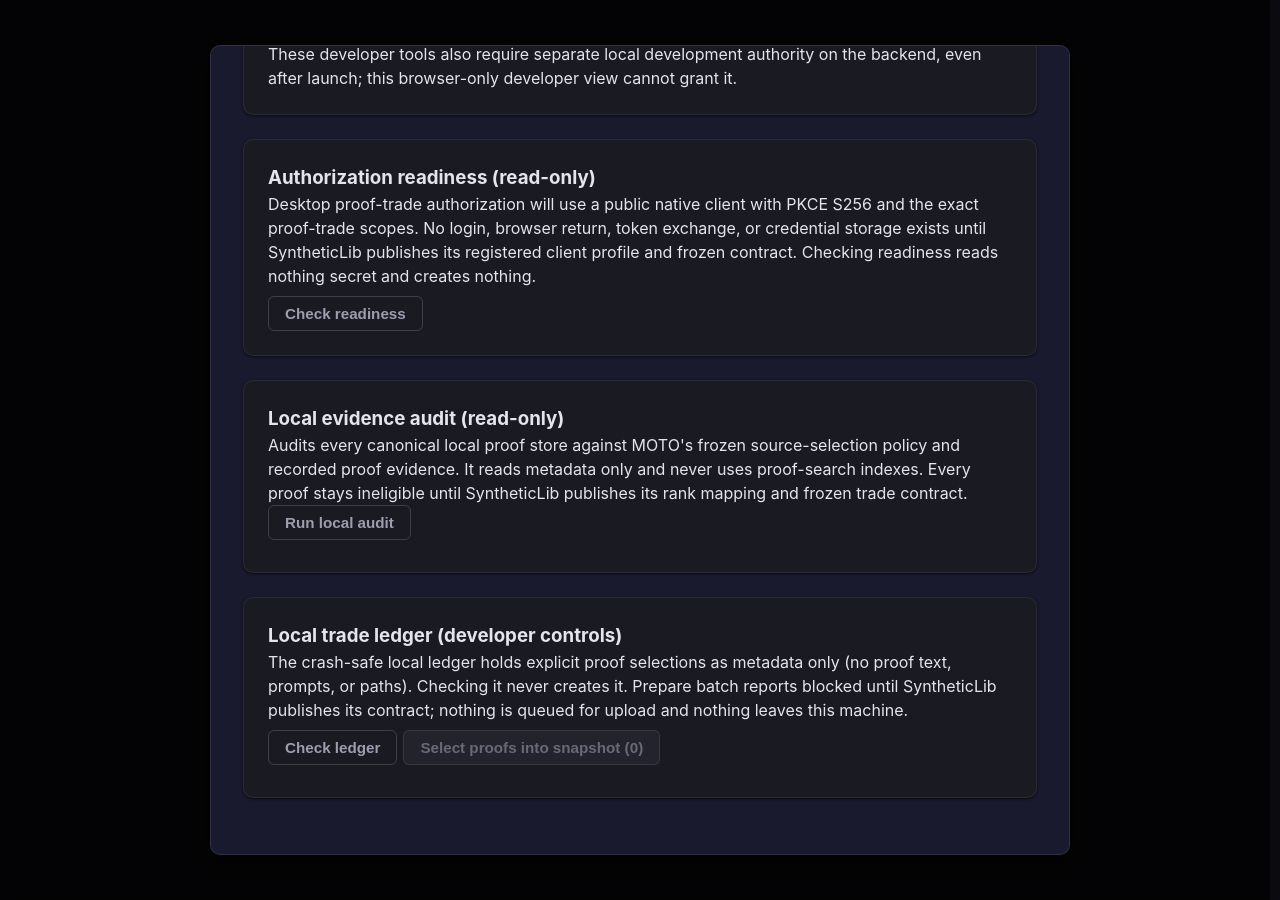
SyntheticLib4DeveloperWorkspace › checks the ledger only on request and shows counts without uploads
The width and height of the screenshot is (1280, 900).
(page scrolled)
Click the button "Check ledger" at (333,748), box [268,730,397,765]
(page scrolled)
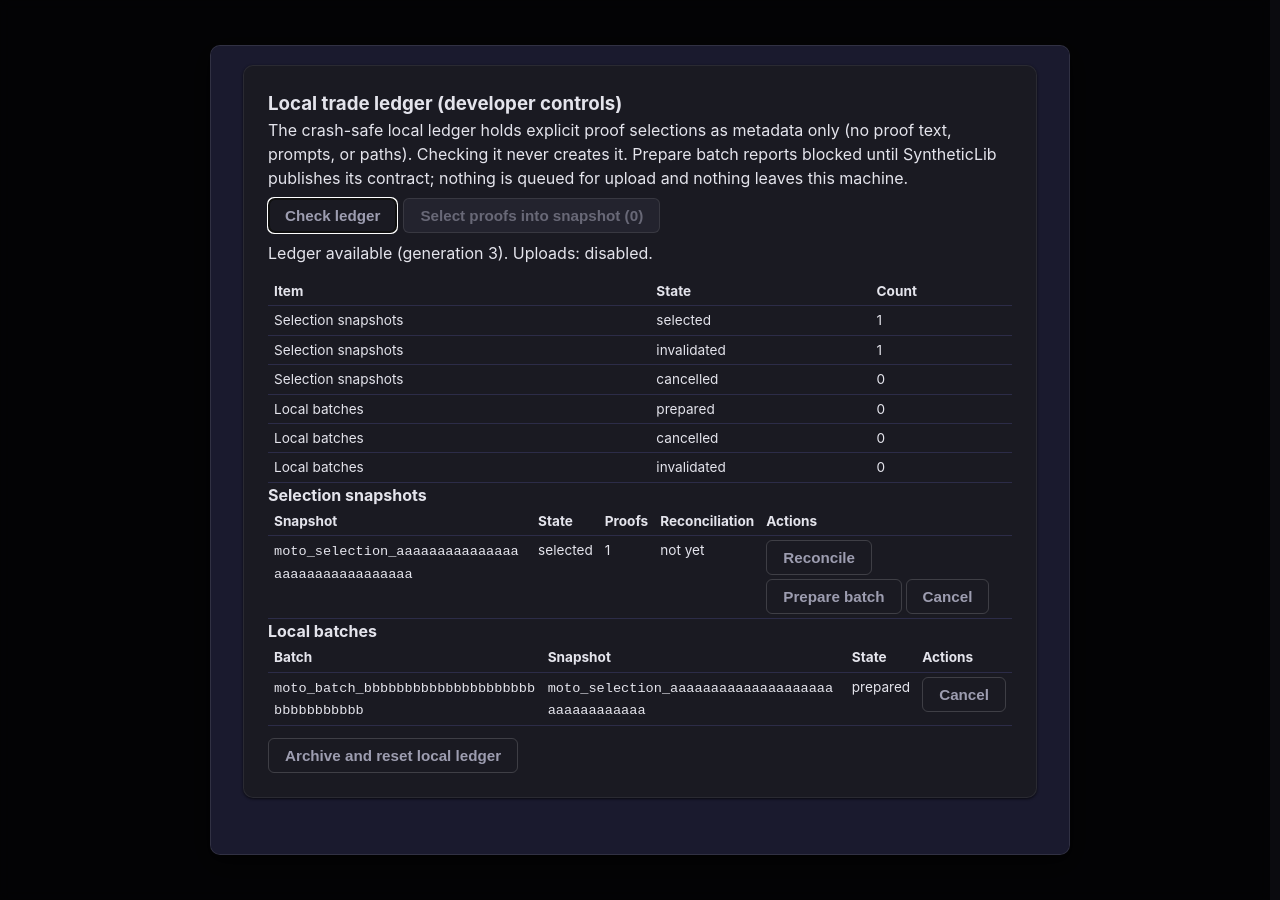
Result: the text "Ledger available (generation 3). Uploads: disabled." is shown at [268,243,653,263]
Result: the table named "trade ledger state counts" shows "invalidated" at [656,342,726,358]
Result: the table named "local batches" shows "prepared" at [852,678,910,694]
